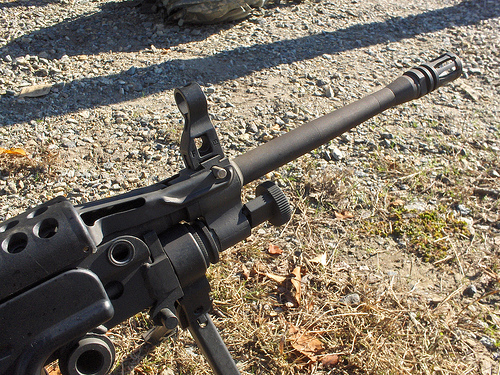rifle: (9, 44, 469, 350)
